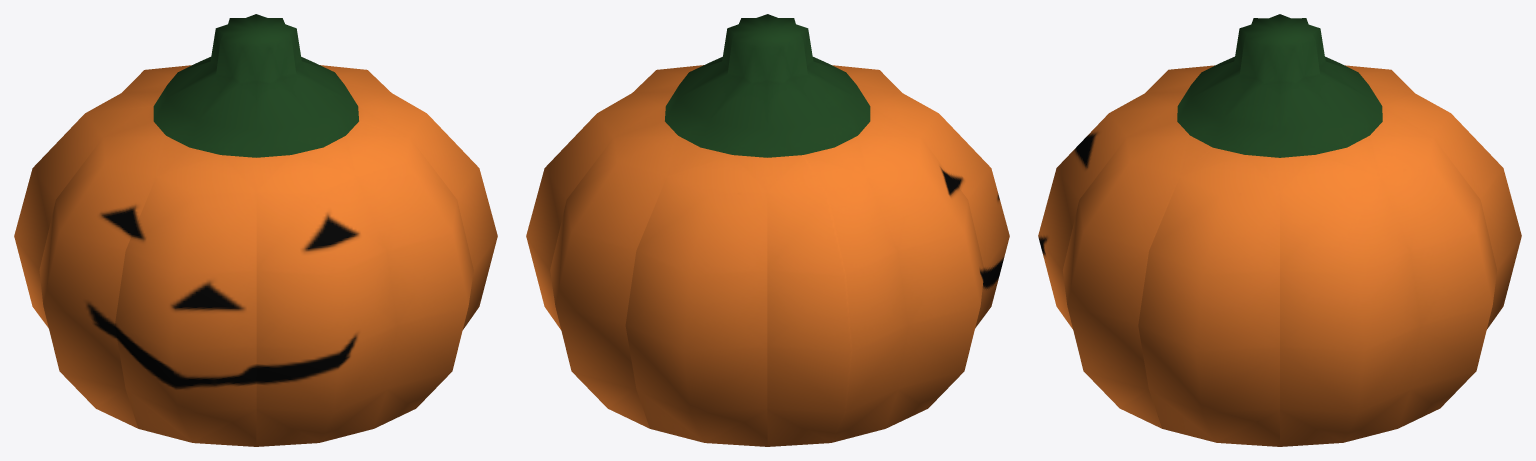
File: HW_pumpkin.fbx
3 renders of one model, left to right at view 1: azimuth 30°, elevation 25°; view 2: azimuth 150°, elevation 25°; view 3: azimuth 270°, elevation 25°, orthographic.
Parts seen in each view (by area): view 1: HW_pumpkin; view 2: HW_pumpkin; view 3: HW_pumpkin.
Part boxes in pixels (x1,y1,x2,y2): HW_pumpkin: [14, 14, 497, 446]; HW_pumpkin: [526, 14, 1009, 446]; HW_pumpkin: [1038, 14, 1521, 446].
Size of the model in its own units: 0.2608 by 0.2063 by 0.2648.
Materials: 1 (1 with a texture image).
